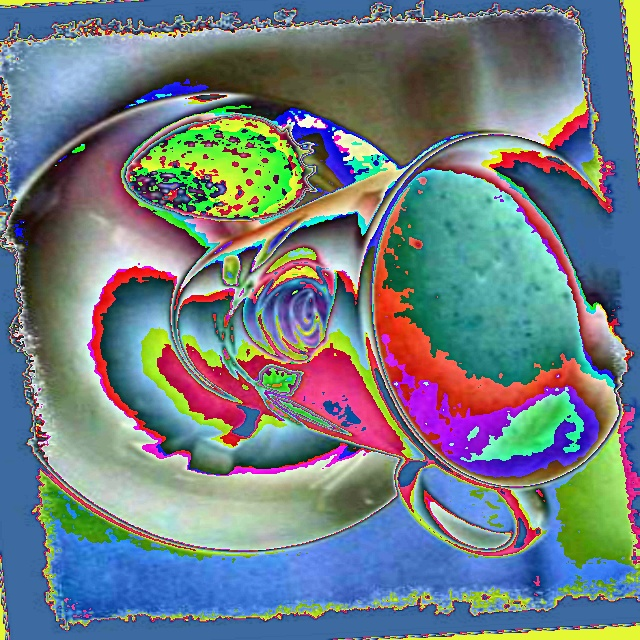background: (213, 166, 584, 461), (126, 108, 320, 221)
